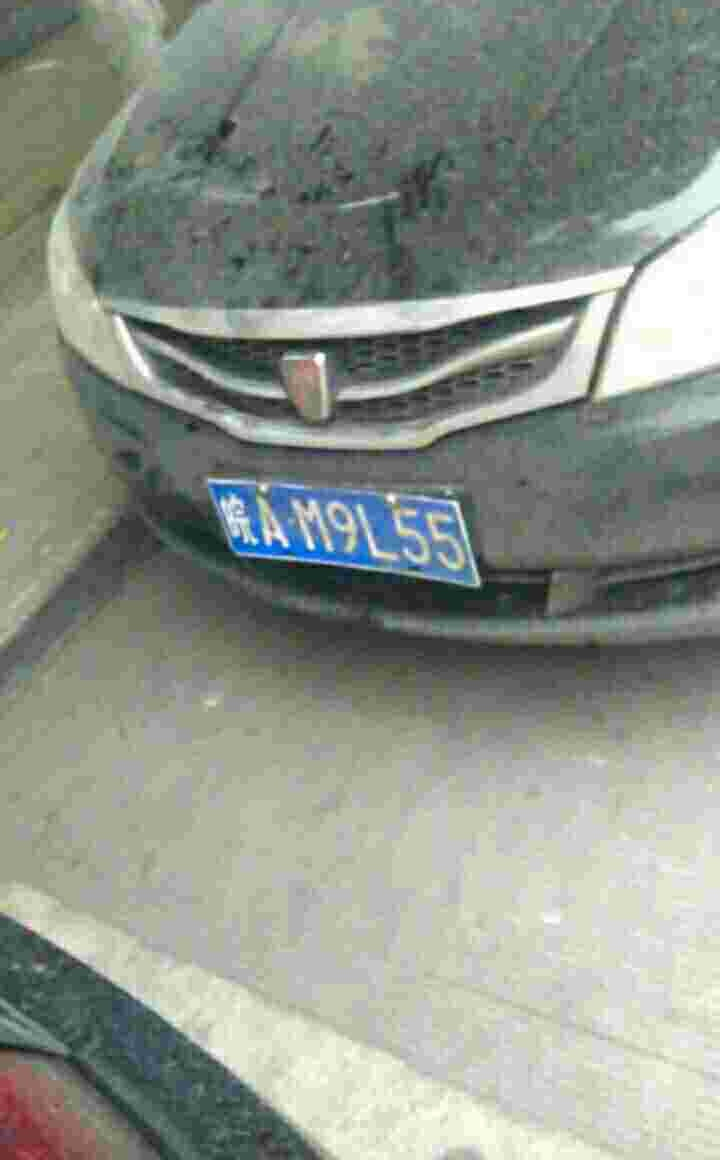license_plate: (207, 473, 478, 578)
